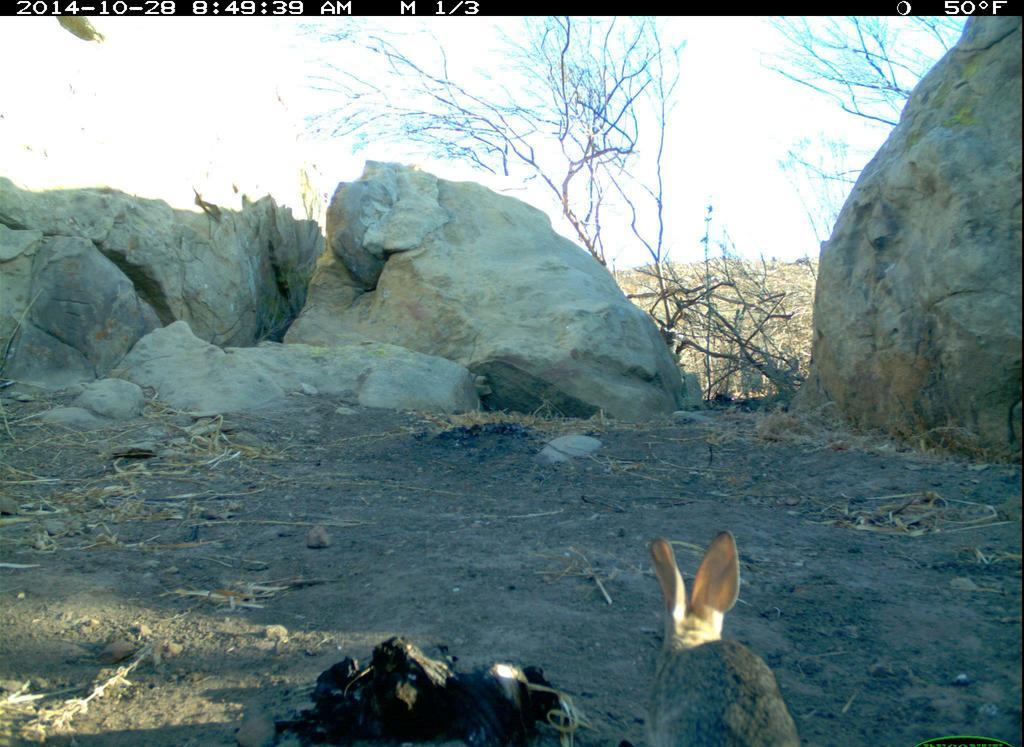rabbit: (644, 524, 799, 747)
